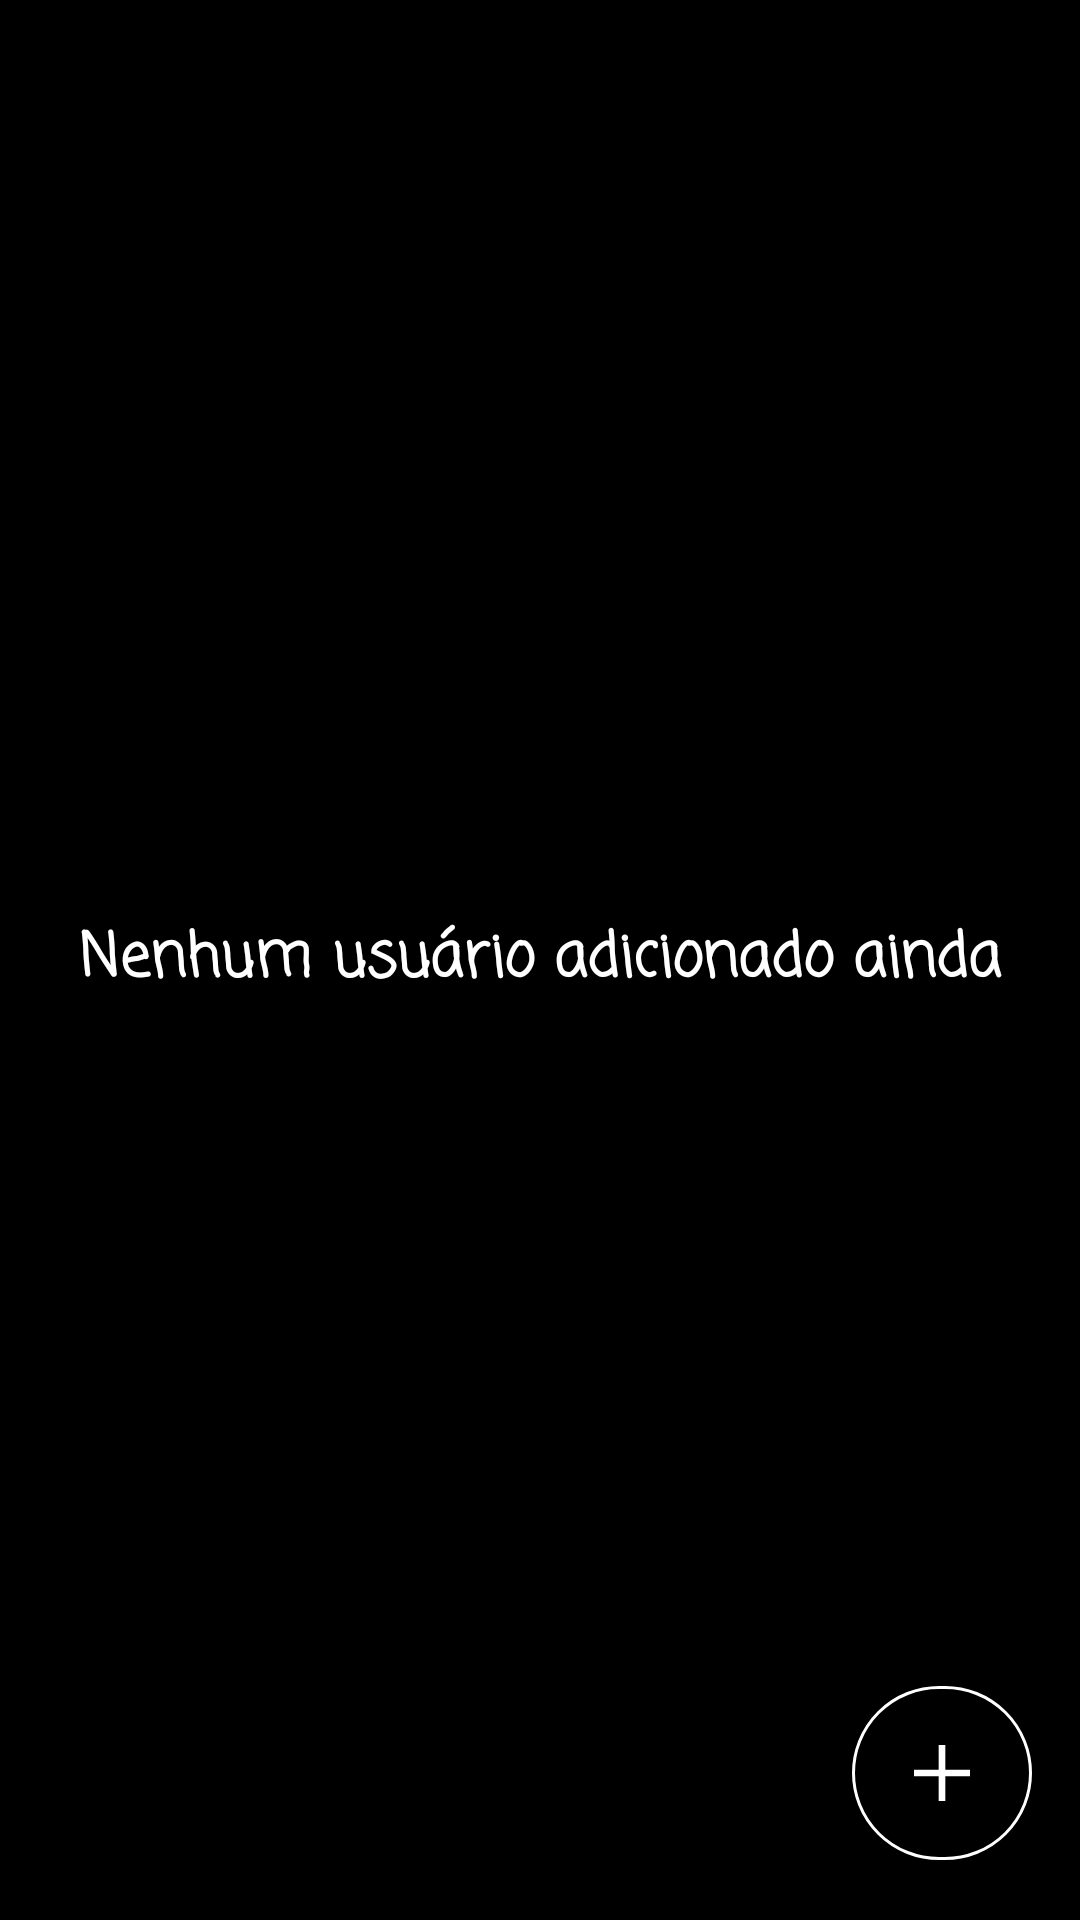

Where icons sit on this 1080px x 1920px app screen, as (x1, y1, x2, y2):
plus: (914, 1745, 970, 1801)
